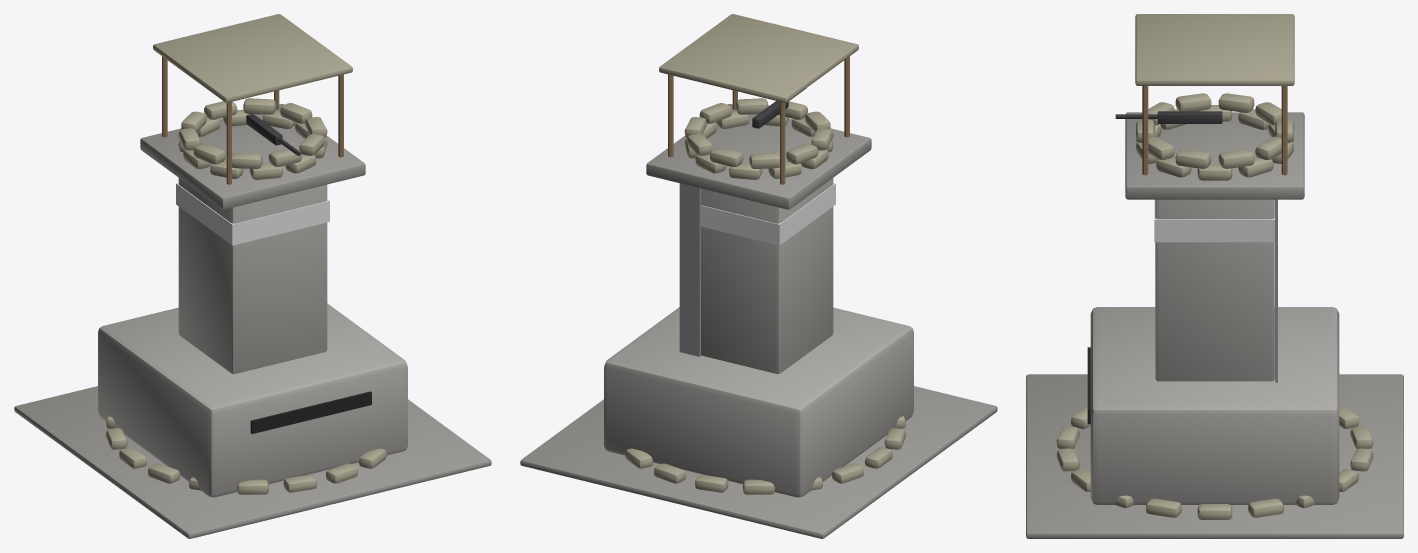
File: guard_tower.glb
The picture shows the model from 3 angles, left to right: view 1: azimuth 30°, elevation 25°; view 2: azimuth 150°, elevation 25°; view 3: azimuth 270°, elevation 25°; orthographic projection. The views are drawn at different scales.
Visible parts, largest first — view 1: body, turret; view 2: body, turret; view 3: body, turret.
Part boxes in pixels (x1,y1,x2,y2): body: (14, 104, 491, 538); turret: (153, 14, 352, 184); body: (520, 104, 997, 538); turret: (659, 14, 858, 184); body: (1026, 112, 1403, 538); turret: (1115, 14, 1294, 180).
Size of the model in its own units: 7.6 by 9.18 by 7.6.
